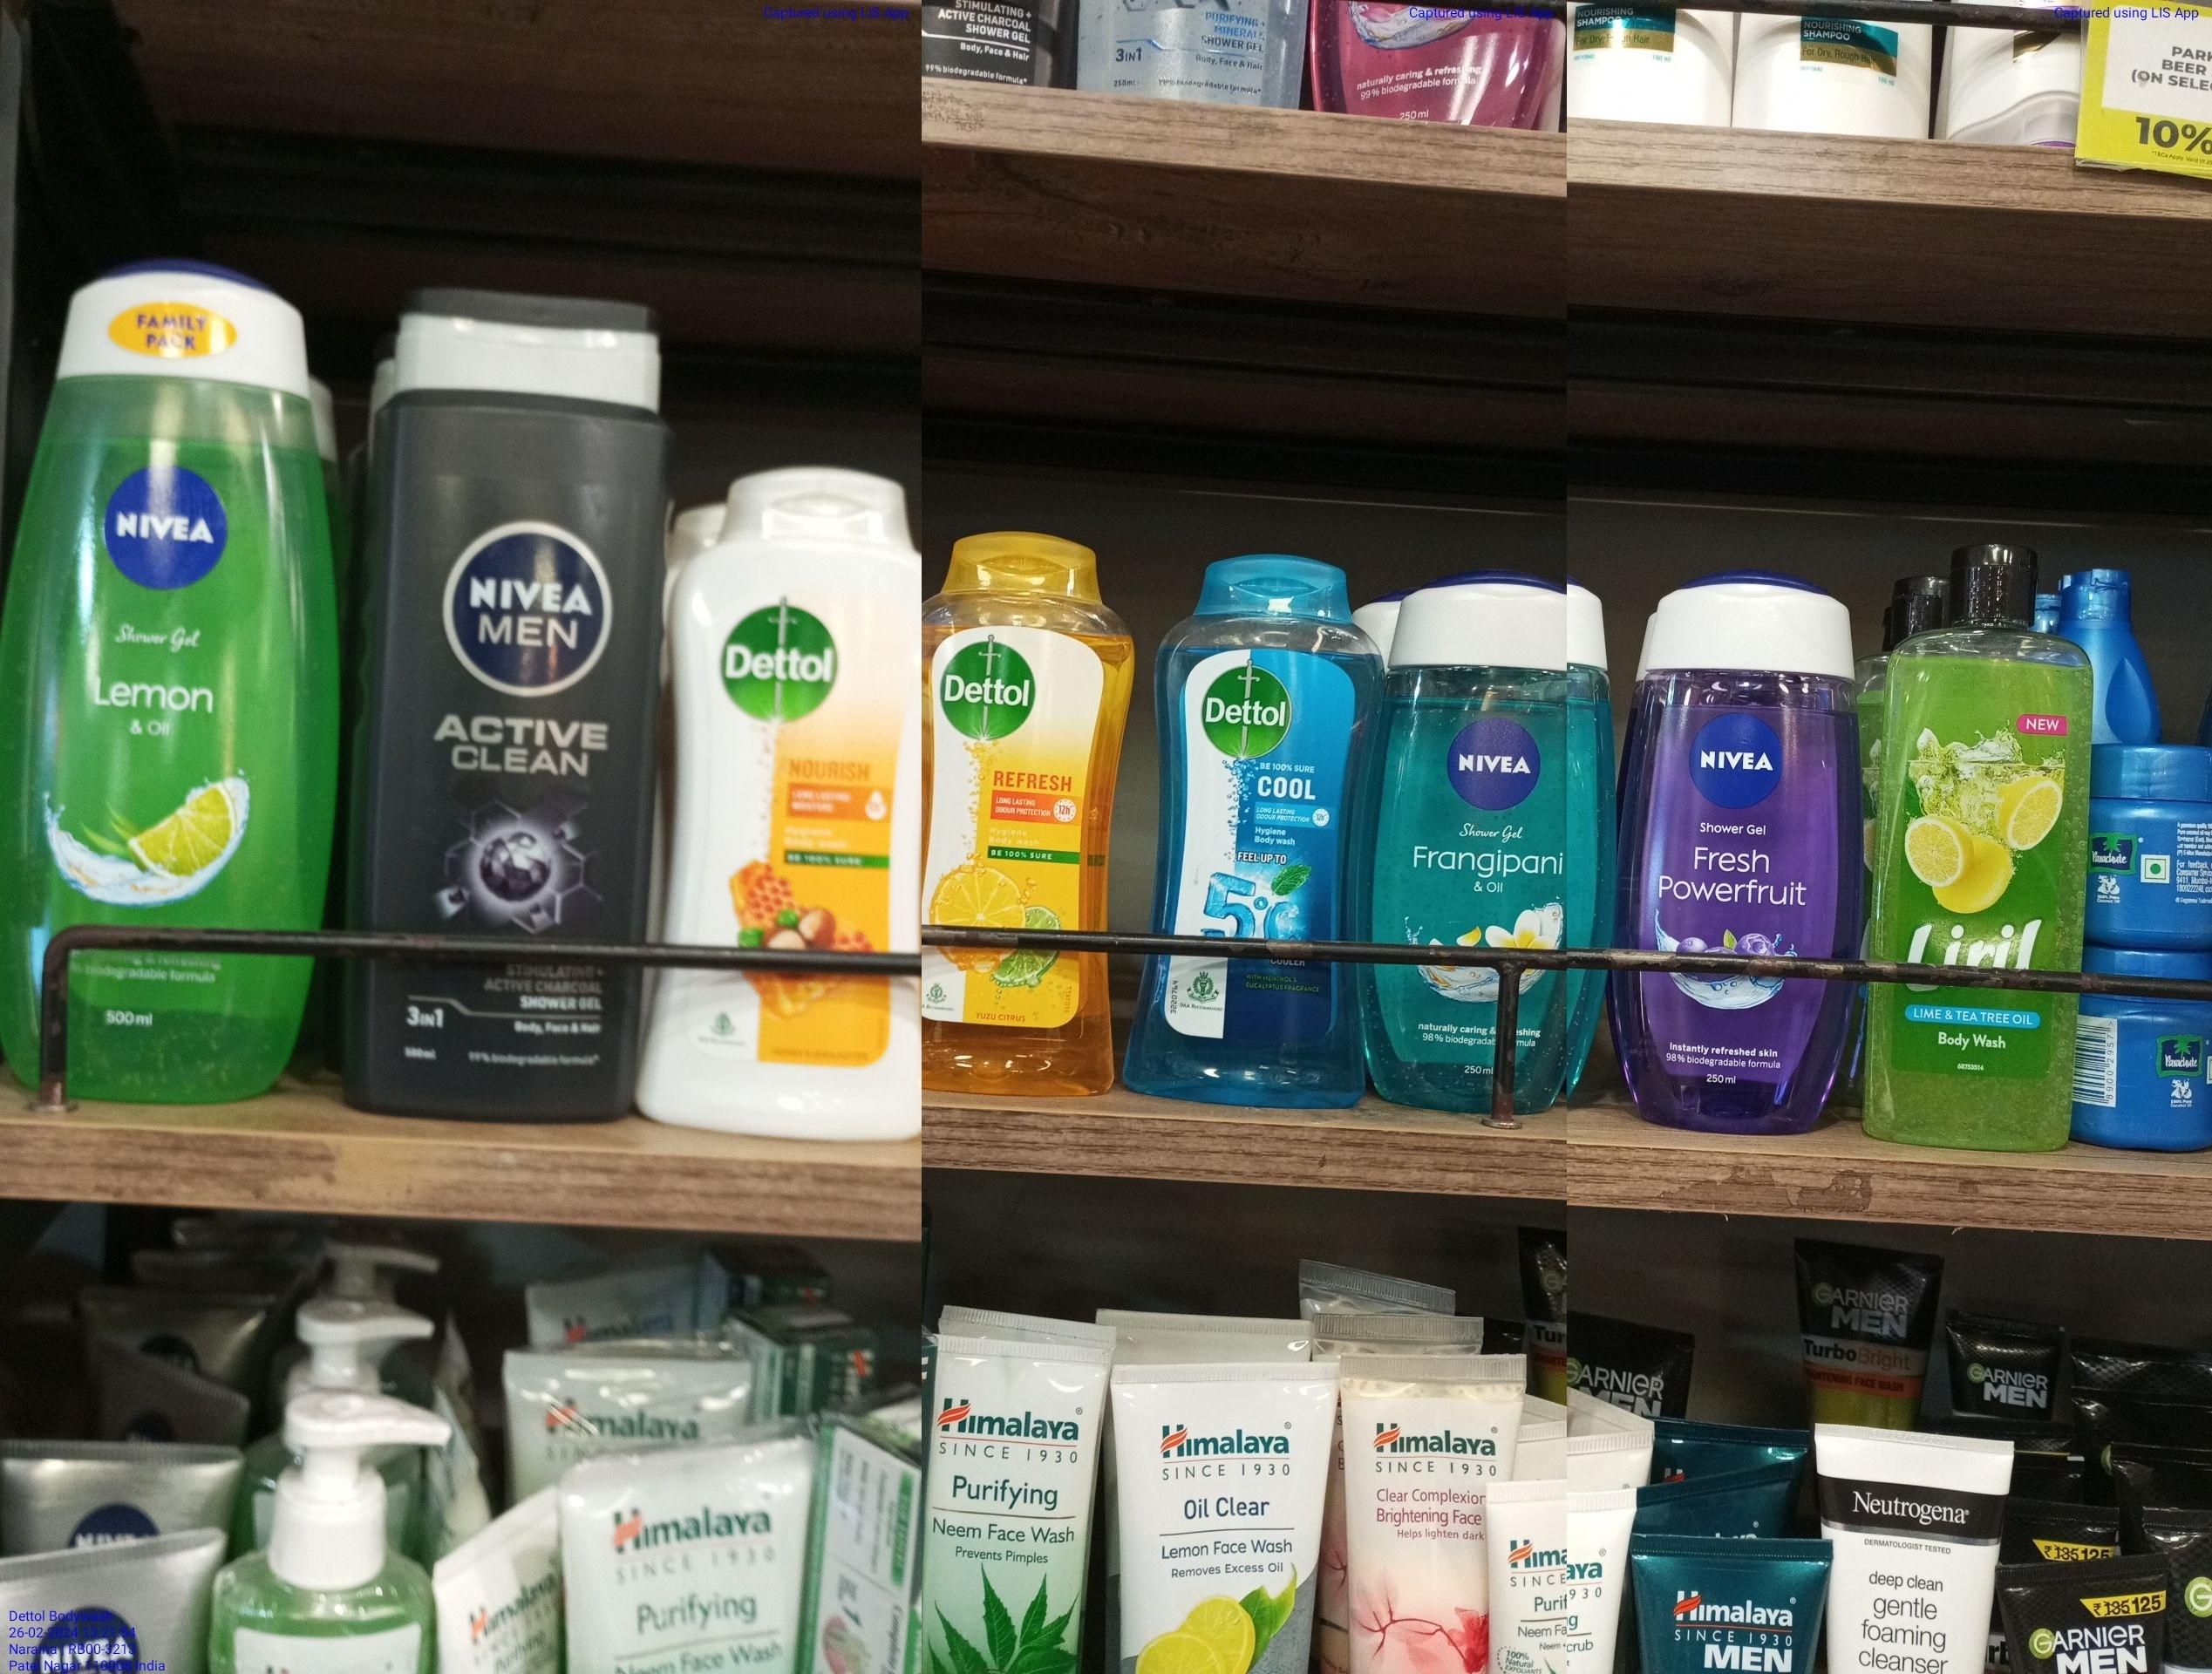Dettol_Bodywash_Cool: (1131, 552, 1372, 1104)
Dettol_Bodywash_Refresh: (923, 515, 1134, 1101)
Dettol_Nourish_Body_Wash_250ML: (635, 455, 921, 1136)
Nivea_Shower_Gel_Frangipani_and_Oil_250ML: (1361, 575, 1609, 1117)
Nivea_Shower_Gel_Fresh_Powerfruit_250ML: (1621, 563, 1869, 1129)
Nivea_Shower_Gel_Lemon_and_Oil_250ML: (7, 257, 324, 1117)
